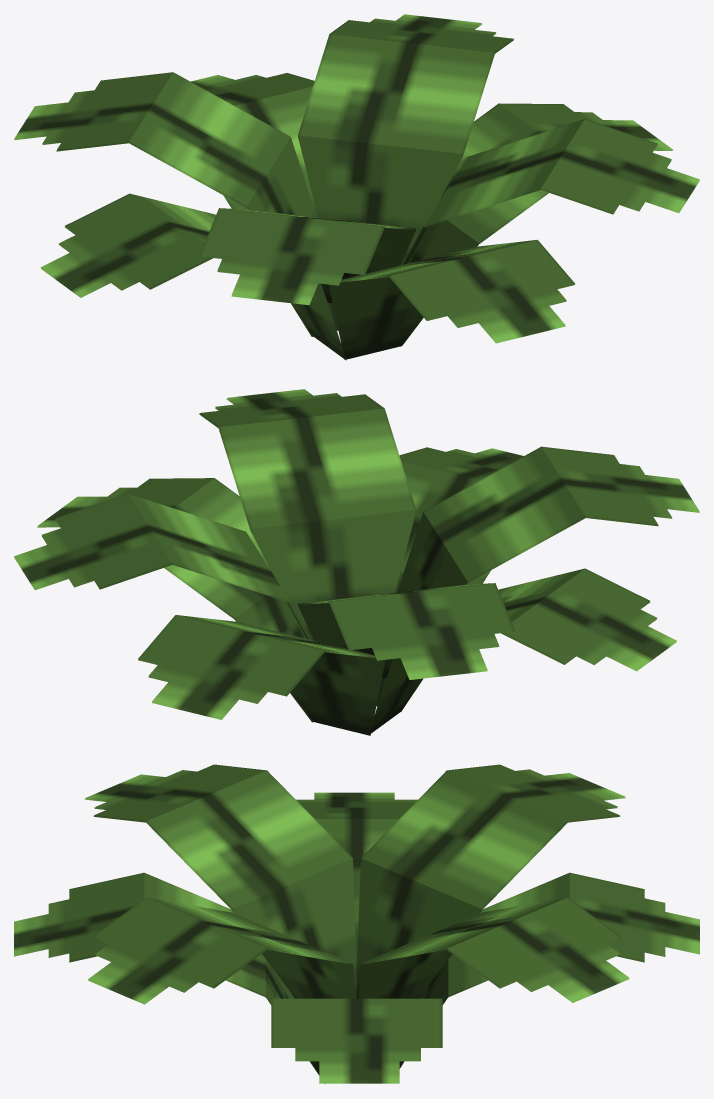
Rendered from planta.FBX.
3 renders of one model, top to bottom at view 1: azimuth 30°, elevation 25°; view 2: azimuth 150°, elevation 25°; view 3: azimuth 270°, elevation 25°, orthographic.
Parts seen in each view (by area): view 1: planta; view 2: planta; view 3: planta.
Part boxes in pixels (x1,y1,x2,y2): planta: (14,14,699,360); planta: (14,389,699,735); planta: (14,764,699,1083).
Size of the model in its own units: 36.95 by 12.52 by 36.95.
